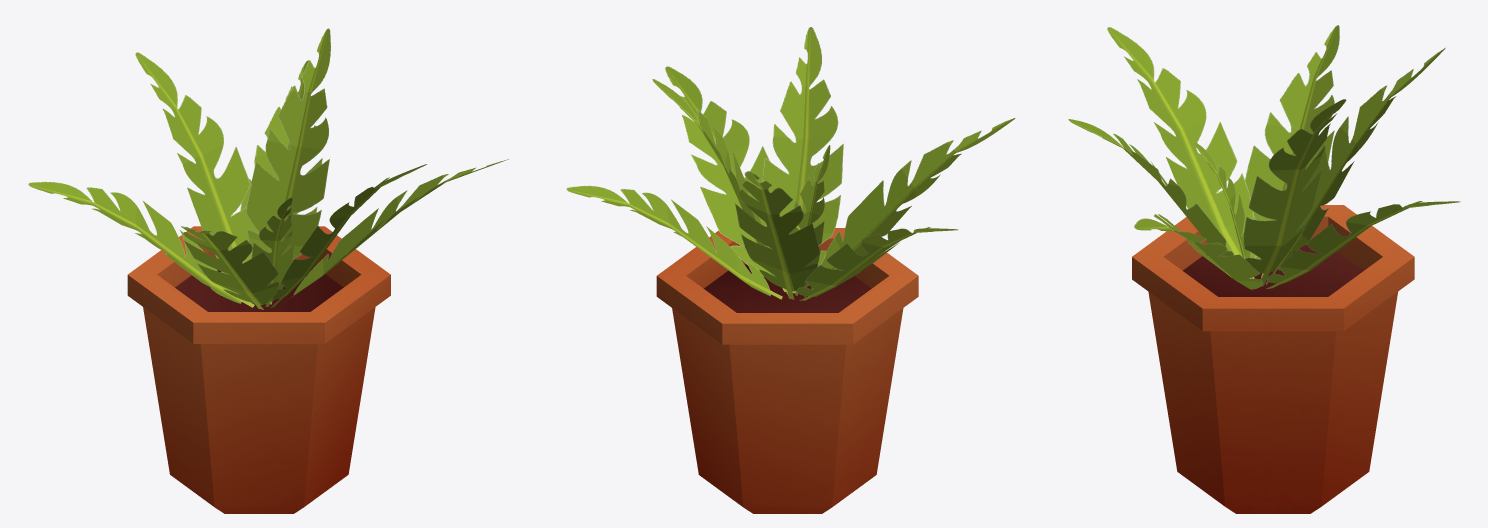
The model's file is SM_PlantPot_1.fbx.
The picture shows the model from 3 angles, left to right: view 1: azimuth 30°, elevation 25°; view 2: azimuth 150°, elevation 25°; view 3: azimuth 270°, elevation 25°; orthographic projection. The views are drawn at different scales.
Parts seen in each view (by area): view 1: Cylinder.001, T_Grass_Flower.022, T_Grass_Flower.018, T_Grass_Flower.024, T_Grass_Flower.020, T_Grass_Flower.023, T_Grass_Flower.021, T_Grass_Flower.019, T_Grass_Flower.025; view 2: Cylinder.001, T_Grass_Flower.021, T_Grass_Flower.018, T_Grass_Flower.023, T_Grass_Flower.020, T_Grass_Flower.025, T_Grass_Flower.024, T_Grass_Flower.022, T_Grass_Flower.019; view 3: Cylinder.001, T_Grass_Flower.020, T_Grass_Flower.022, T_Grass_Flower.024, T_Grass_Flower.018, T_Grass_Flower.025, T_Grass_Flower.021, T_Grass_Flower.023, T_Grass_Flower.019.
Part boxes in pixels (box(x1,y1,x2,y2)): Cylinder.001: box(127, 226, 390, 513); T_Grass_Flower.022: box(246, 28, 330, 304); T_Grass_Flower.018: box(135, 52, 258, 263); T_Grass_Flower.024: box(28, 181, 254, 307); T_Grass_Flower.020: box(181, 226, 279, 309); T_Grass_Flower.023: box(291, 159, 508, 297); T_Grass_Flower.021: box(270, 164, 427, 308); T_Grass_Flower.019: box(251, 198, 293, 306); T_Grass_Flower.025: box(240, 60, 322, 214); Cylinder.001: box(656, 228, 918, 513); T_Grass_Flower.021: box(762, 27, 843, 293); T_Grass_Flower.018: box(735, 171, 820, 299); T_Grass_Flower.023: box(665, 66, 785, 291); T_Grass_Flower.020: box(804, 118, 1015, 297); T_Grass_Flower.025: box(566, 185, 782, 299); T_Grass_Flower.024: box(796, 227, 958, 300); T_Grass_Flower.022: box(652, 79, 787, 294); T_Grass_Flower.019: box(789, 145, 830, 295); Cylinder.001: box(1132, 205, 1414, 513); T_Grass_Flower.020: box(1107, 27, 1256, 278); T_Grass_Flower.022: box(1243, 99, 1346, 286); T_Grass_Flower.024: box(1245, 25, 1339, 278); T_Grass_Flower.018: box(1265, 47, 1445, 285); T_Grass_Flower.025: box(1266, 201, 1460, 288); T_Grass_Flower.021: box(1068, 119, 1233, 256); T_Grass_Flower.023: box(1134, 214, 1262, 289); T_Grass_Flower.019: box(1193, 141, 1253, 278).
Size of the model in its own units: 0.3753 by 0.3658 by 0.3055.
